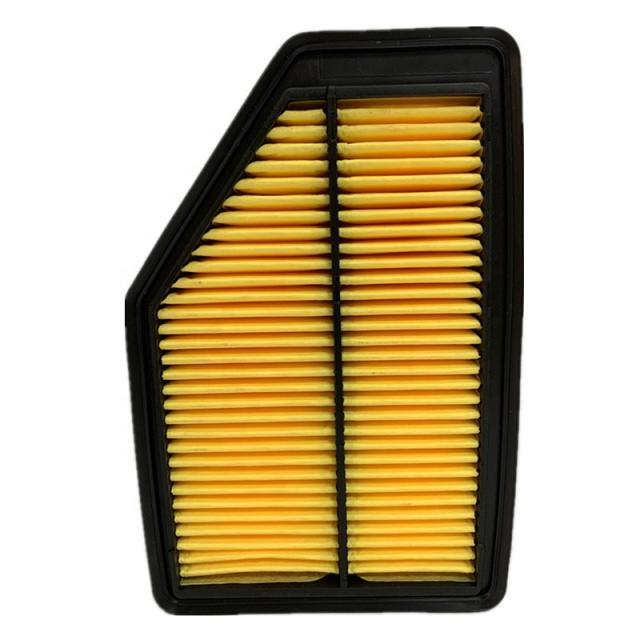air_filter: (117, 18, 535, 622)
